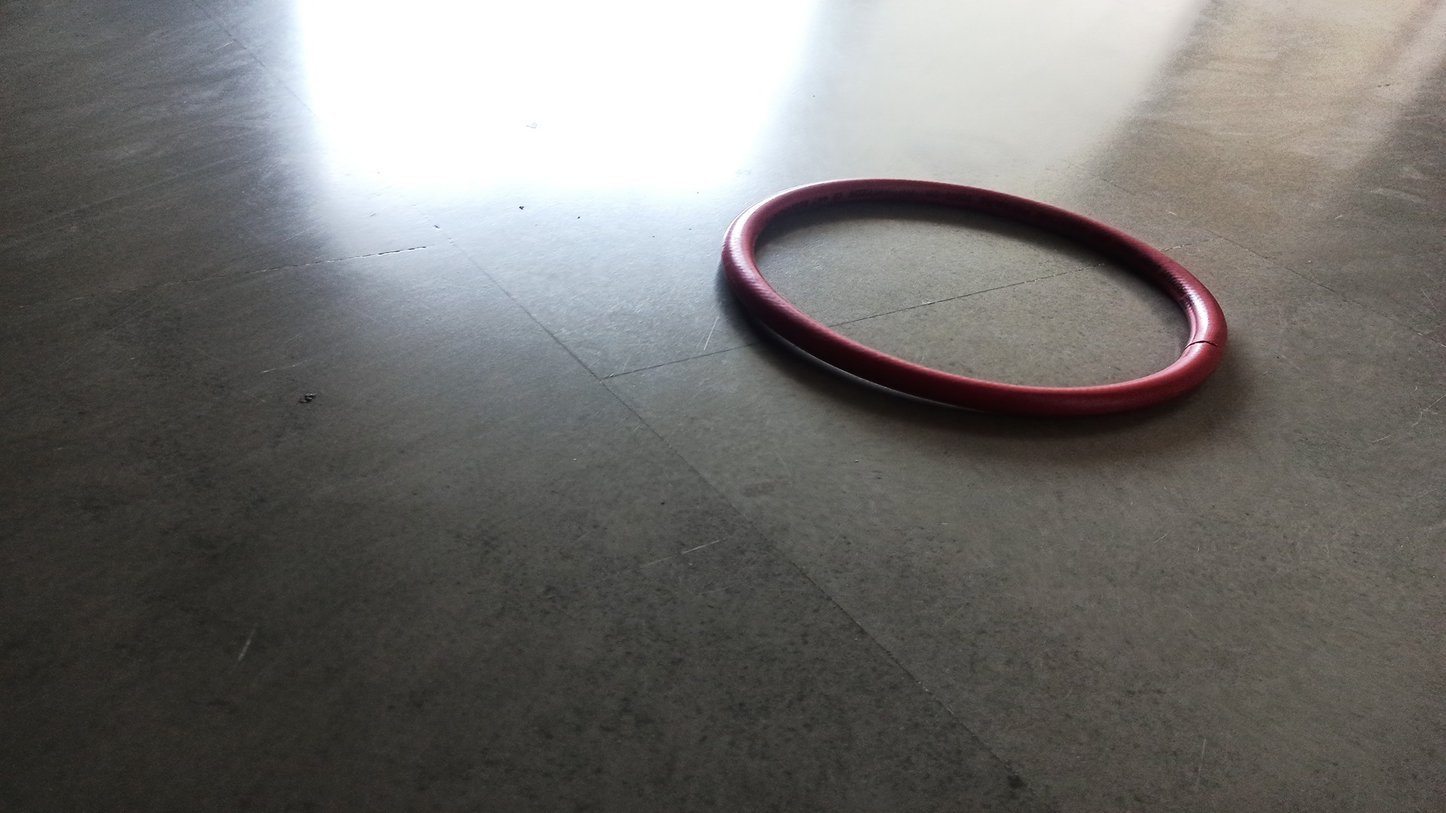Red ring: (721, 178, 1230, 417)
